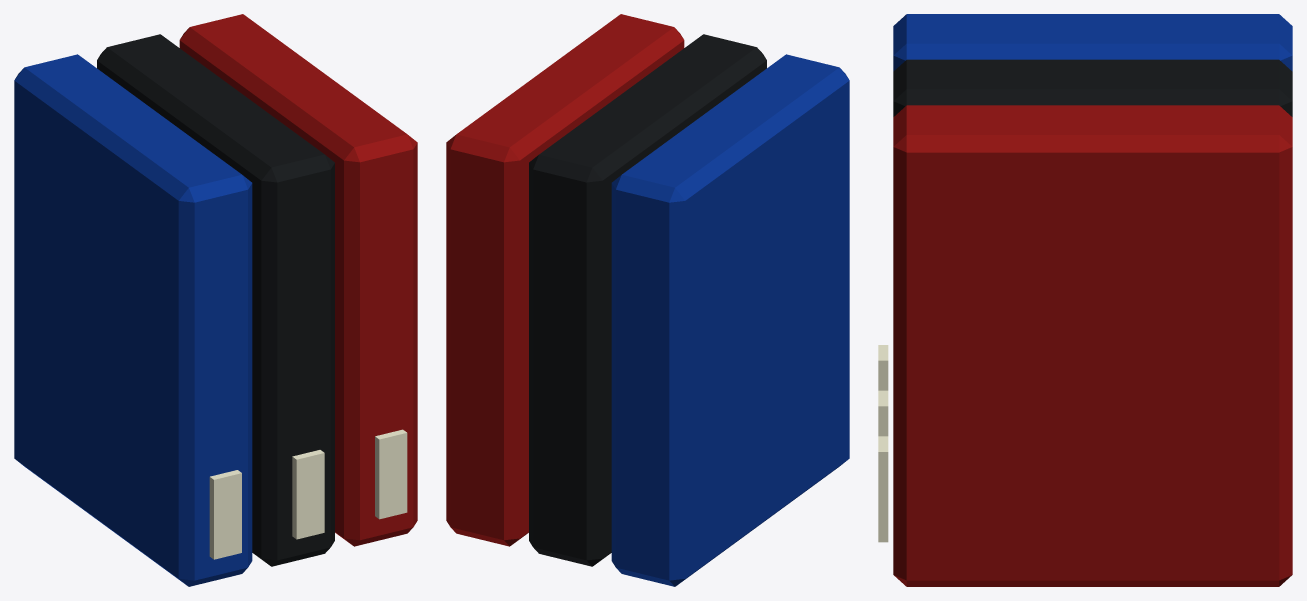
File: BinderSet.fbx
3 views of the same model, side by side, from view 1: azimuth 30°, elevation 25°; view 2: azimuth 150°, elevation 25°; view 3: azimuth 270°, elevation 25° (orthographic). The views are drawn at different scales.
Parts seen in each view (by area): view 1: BinderSet; view 2: BinderSet; view 3: BinderSet.
Boxes of the visible parts, x1=… form: BinderSet: x1=14, y1=14, x2=417, y2=586; BinderSet: x1=446, y1=14, x2=849, y2=586; BinderSet: x1=878, y1=14, x2=1292, y2=586.
Bounding box in the file's own units: 18.8 × 30 × 24.9.
Materials: 1 (1 with a texture image).
